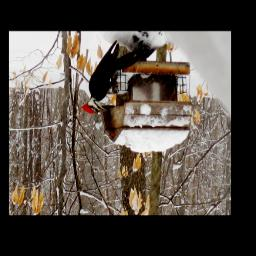Woodpecker: (80, 39, 149, 114)
